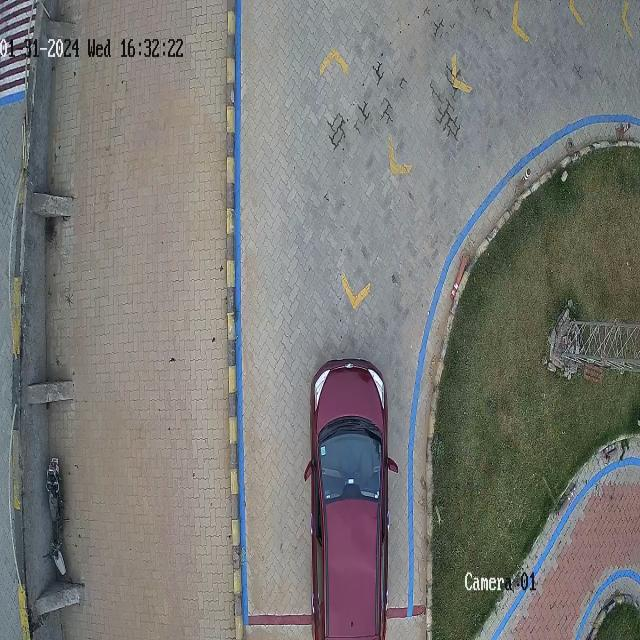car: (305, 360, 398, 640)
